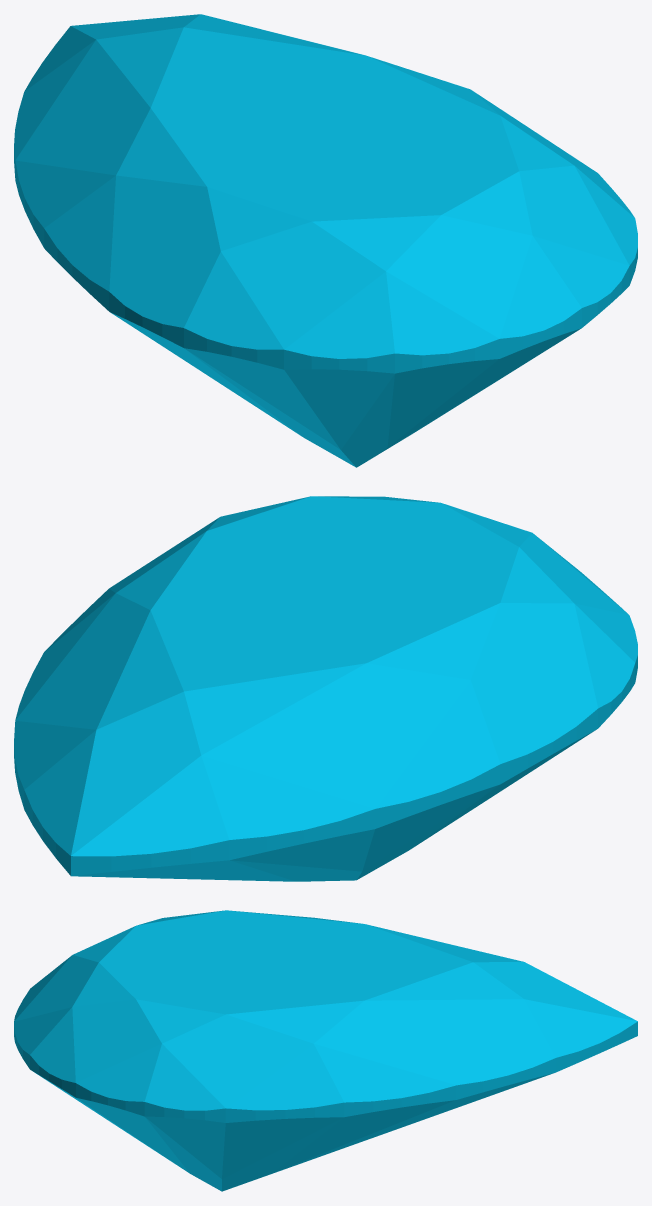
The model's file is Head_No Halo_Pear_3.0ct_Diamond.glb.
3 views of the same model, one above another, from view 1: azimuth 30°, elevation 25°; view 2: azimuth 150°, elevation 25°; view 3: azimuth 270°, elevation 25° (orthographic). The views are drawn at different scales.
Bounding box in the file's own units: 0.00785 × 0.00483 × 0.0119.
